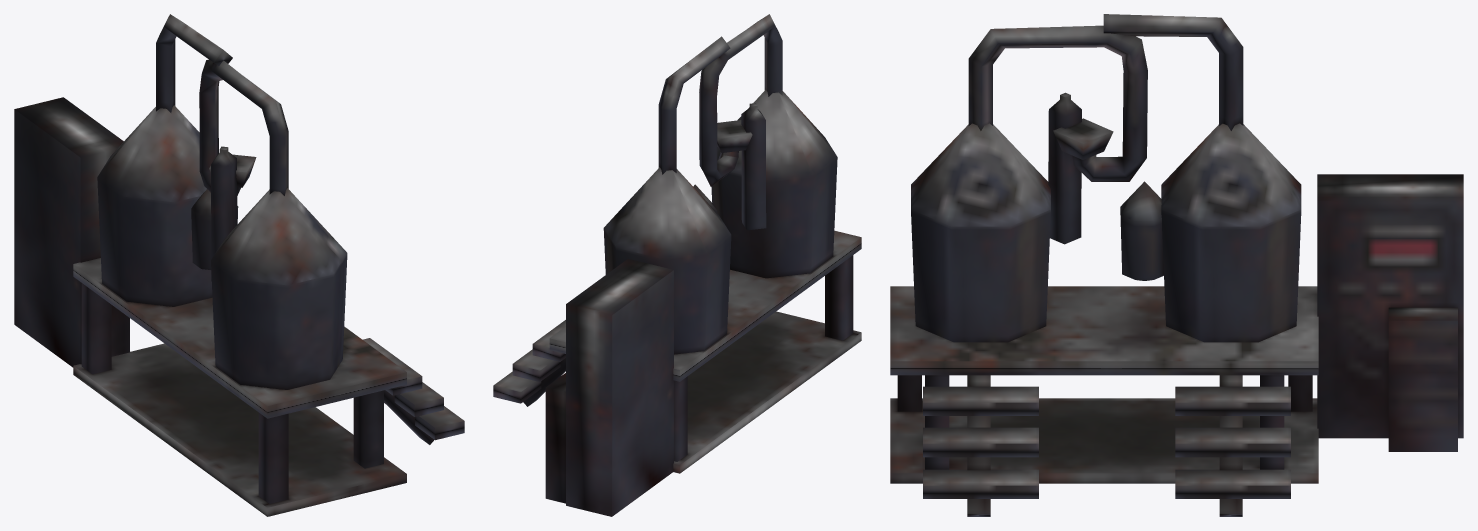
Rendered from BeerMachines.fbx.
3 views of the same model, side by side, from view 1: azimuth 30°, elevation 25°; view 2: azimuth 150°, elevation 25°; view 3: azimuth 270°, elevation 25° (orthographic). The views are drawn at different scales.
Parts seen in each view (by area): view 1: BeerMachine; view 2: BeerMachine; view 3: BeerMachine.
Part boxes in pixels (x1,y1,x2,y2): BeerMachine: (14, 14, 464, 516); BeerMachine: (493, 14, 861, 516); BeerMachine: (890, 14, 1463, 516).
Size of the model in its own units: 516 by 887 by 1085.
